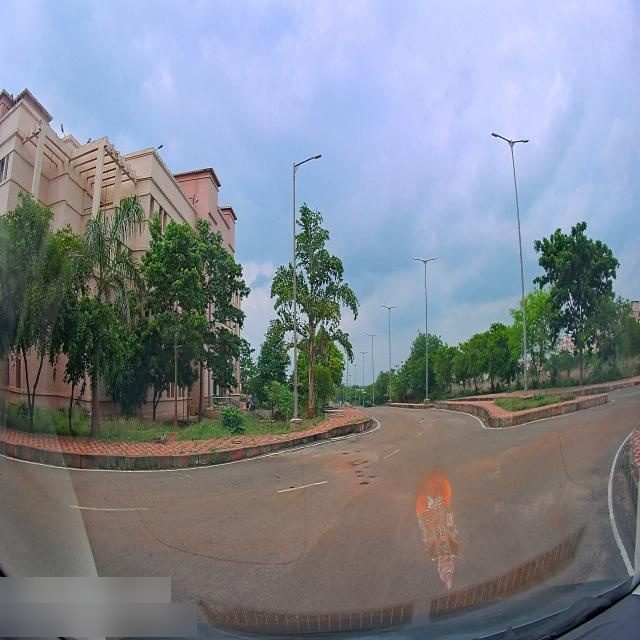pothole: (360, 479, 370, 491), (368, 474, 378, 479), (358, 474, 364, 481), (342, 453, 350, 458), (420, 416, 426, 422), (352, 462, 358, 467), (354, 470, 362, 473), (364, 465, 372, 468), (356, 451, 362, 454), (362, 462, 373, 463)
